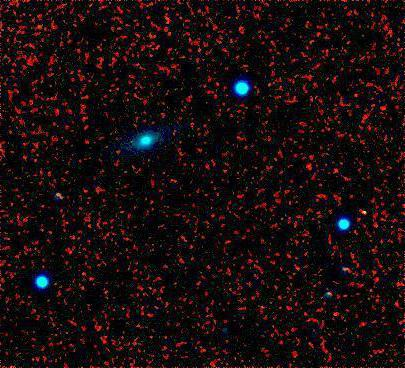star: (345, 196, 375, 226)
